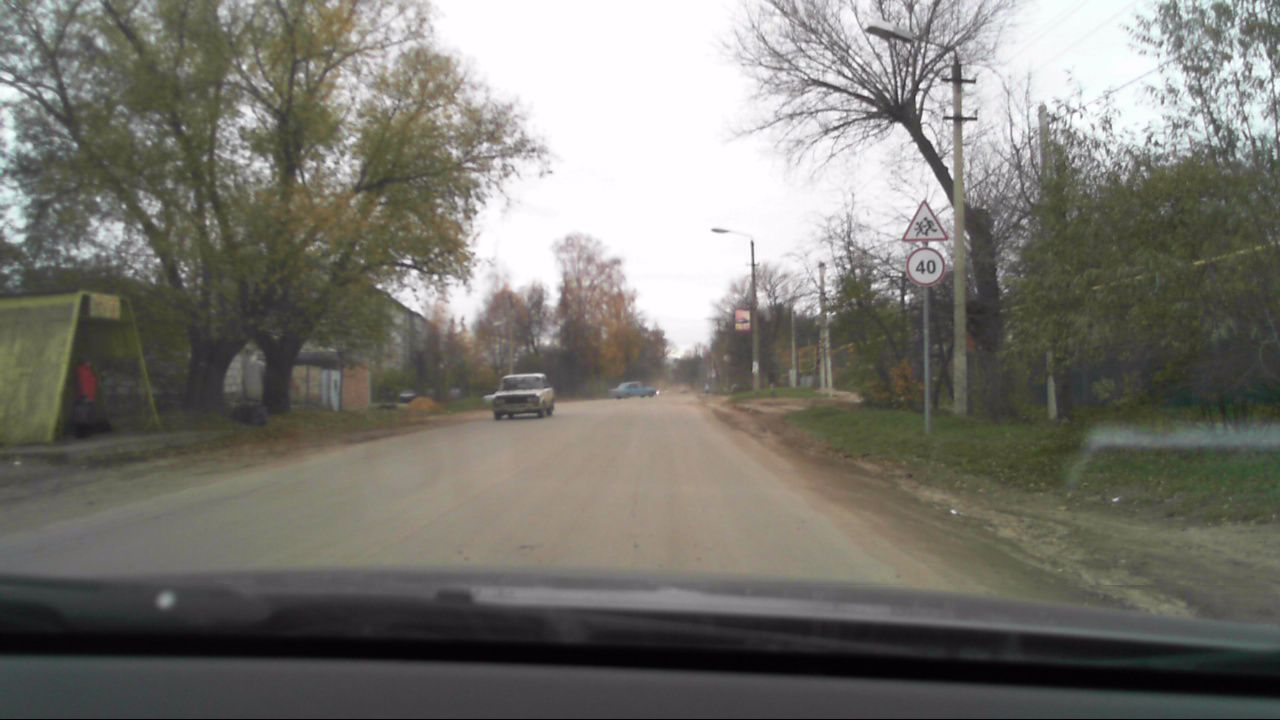speed_warning_40: (904, 247, 944, 286)
